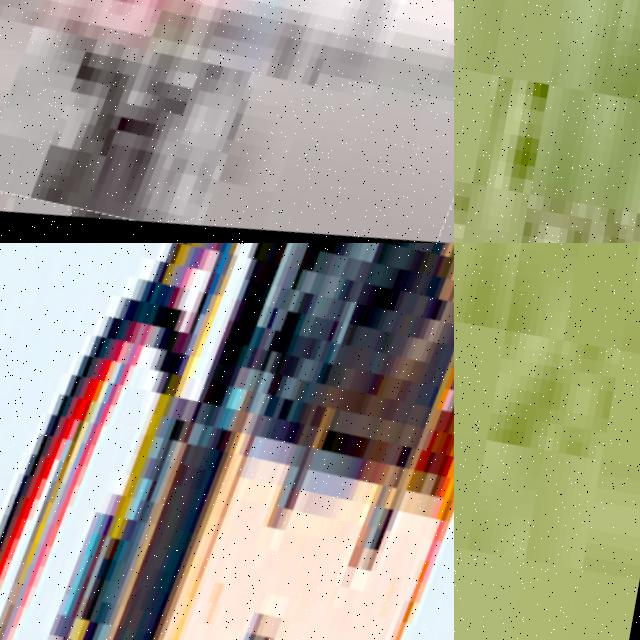0: (0, 0, 454, 243)
drone: (0, 243, 454, 640)
